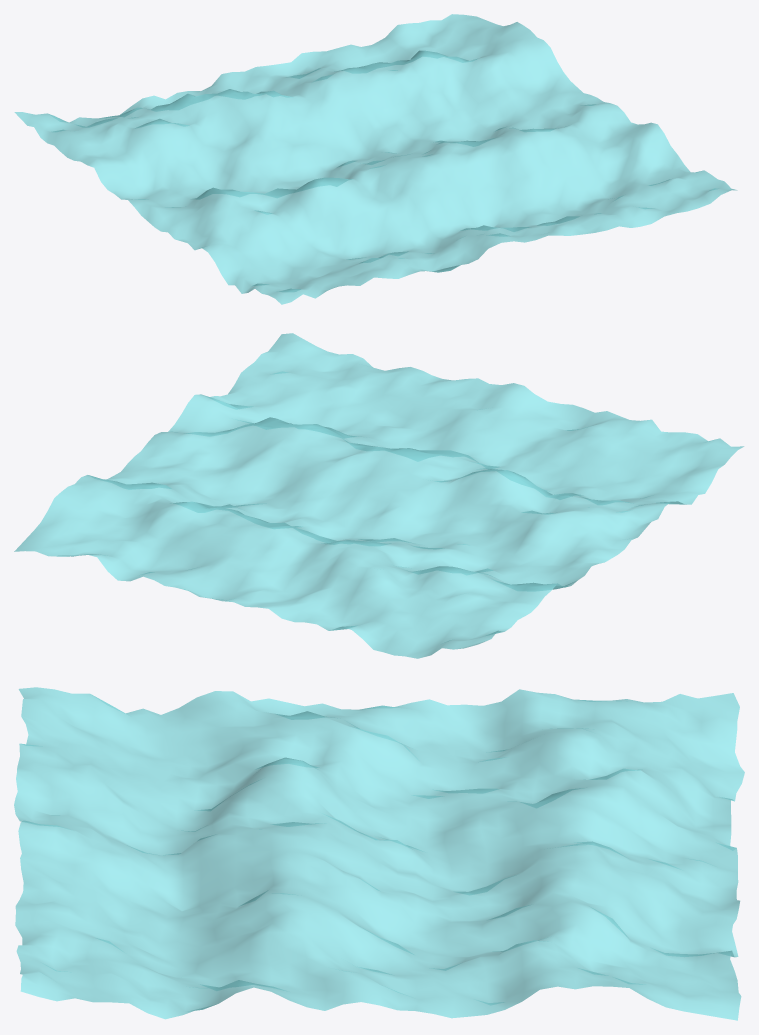
Rendered from yummy_water.glb.
The picture shows the model from 3 angles, top to bottom: view 1: azimuth 30°, elevation 25°; view 2: azimuth 150°, elevation 25°; view 3: azimuth 270°, elevation 25°; orthographic projection. The views are drawn at different scales.
Parts seen in each view (by area): view 1: Plane003; view 2: Plane003; view 3: Plane003.
Boxes of the visible parts, x1,y1,x2,y2 form: Plane003: [14, 14, 737, 304]; Plane003: [14, 333, 744, 658]; Plane003: [14, 687, 744, 1020].
Size of the model in its own units: 2 by 0.2103 by 2.04.
